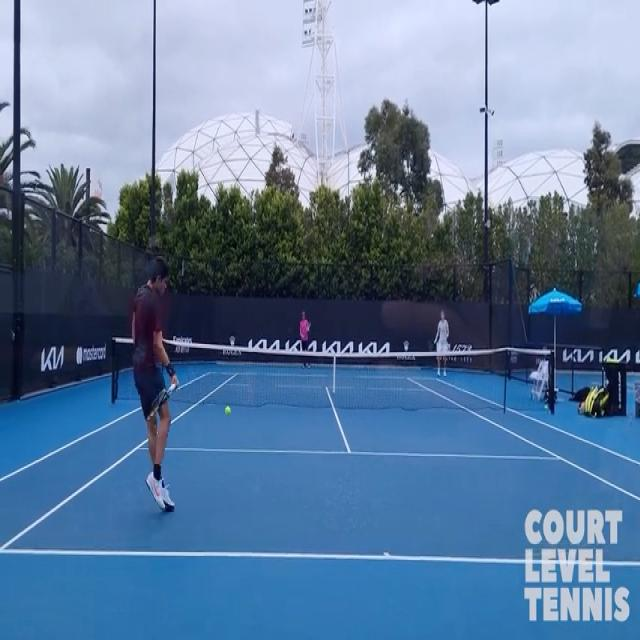forehand-stroke: (114, 263, 210, 520)
